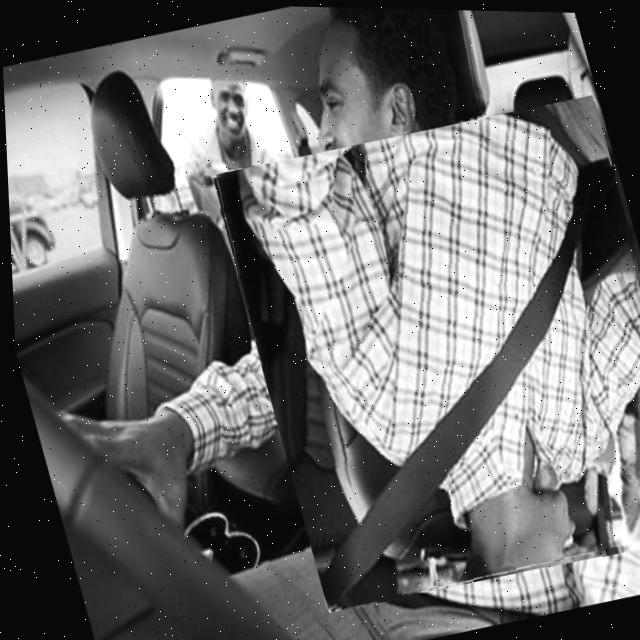seatbelt: (203, 83, 640, 617)
